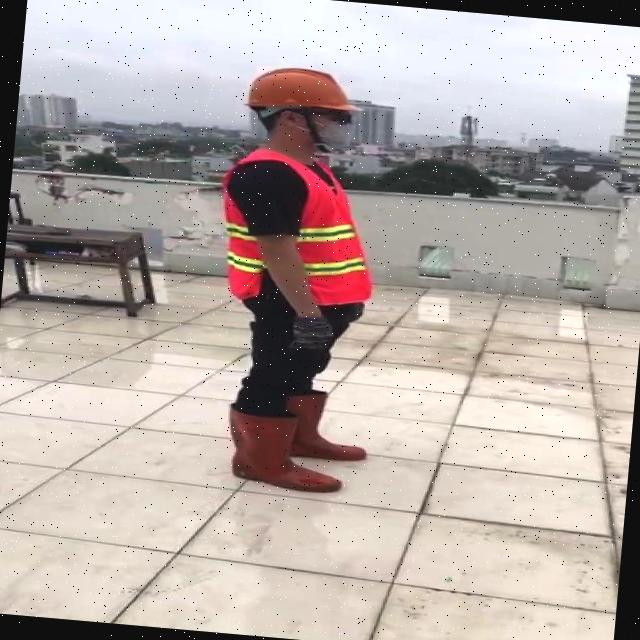boots: (219, 406, 345, 496), (282, 390, 372, 466)
helmet: (240, 62, 362, 115)
vest: (212, 145, 382, 308)
